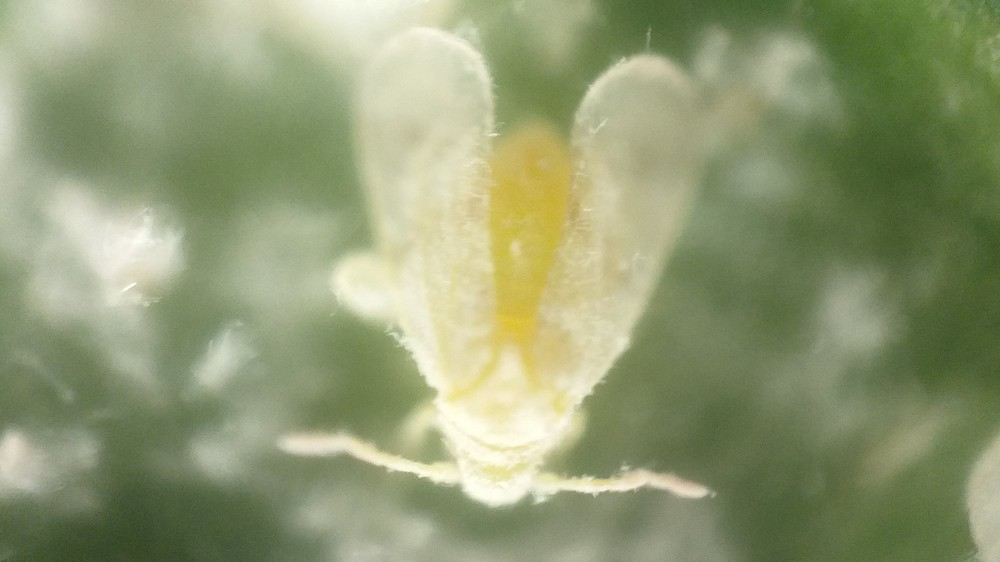Mosca Blanca: (268, 12, 739, 533)
